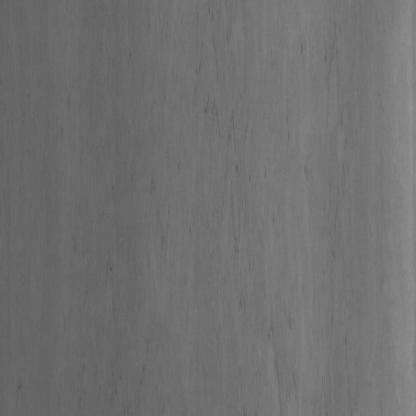silk_spot: (148, 23, 289, 292)
